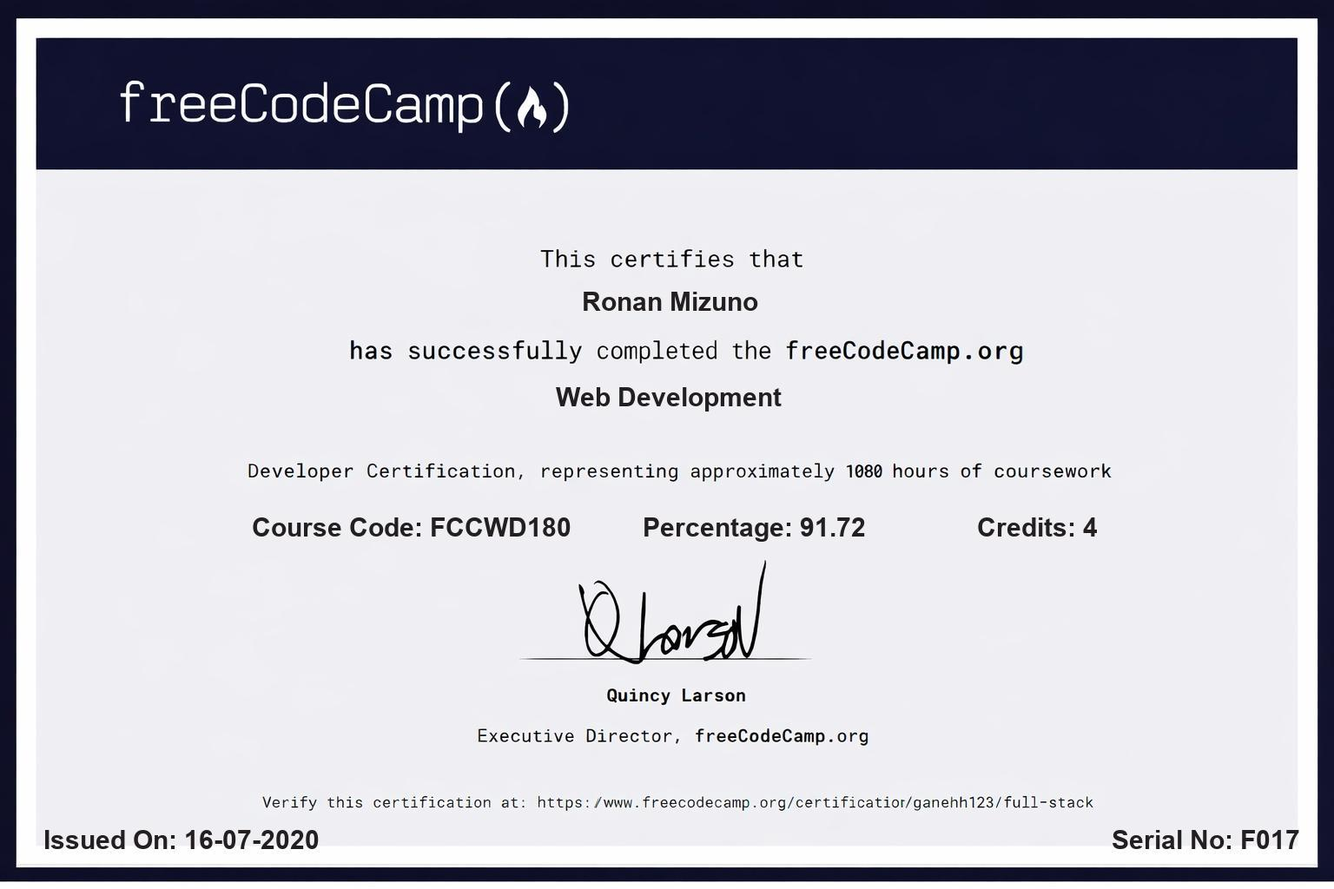Course Code: (424, 508, 579, 549)
Course Name: (546, 380, 791, 426)
Credits: (1075, 507, 1111, 546)
Issued On: (179, 822, 327, 859)
Percentage: (792, 508, 875, 547)
Serial No: (1235, 819, 1305, 860)
Student Name: (570, 280, 763, 326)
